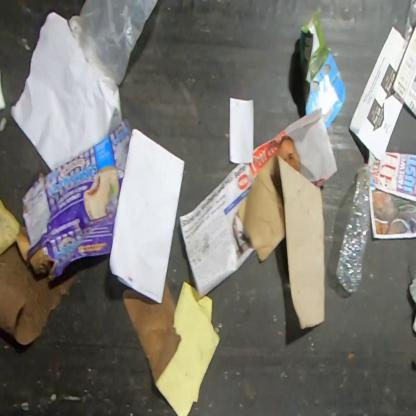cardboard: (15, 117, 132, 289)
rigid_plastic: (335, 162, 372, 294)
soft_plastic: (66, 0, 160, 87), (402, 0, 415, 51)
